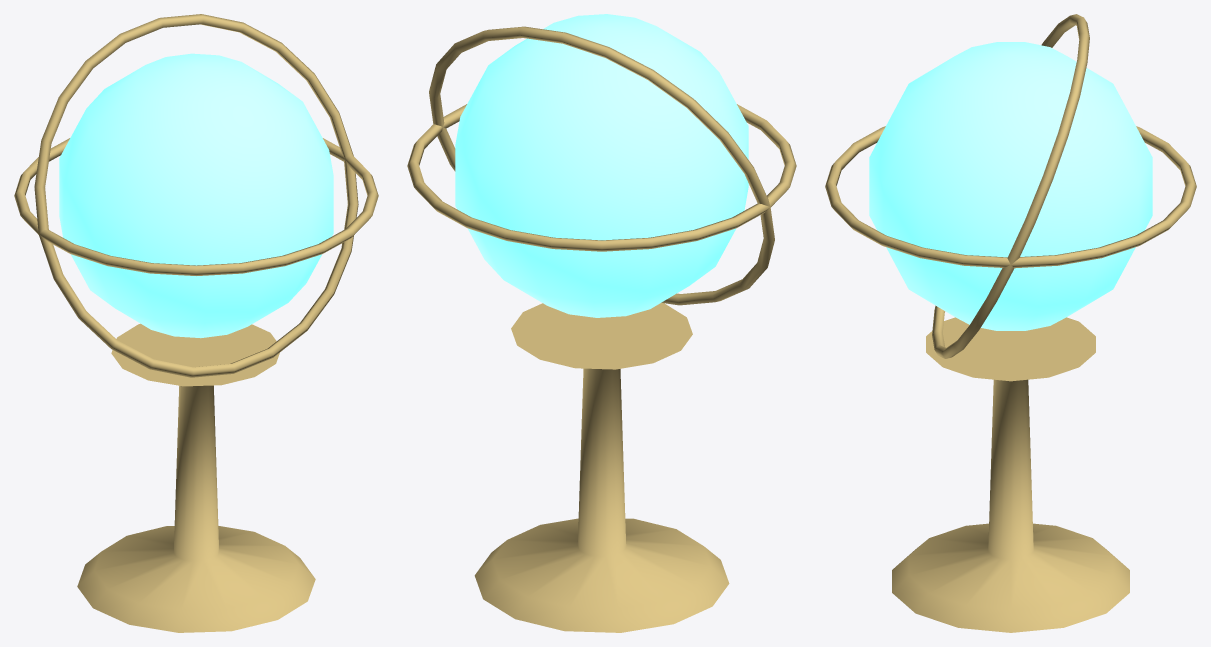
Rendered from ex_globe.glb.
3 views of the same model, side by side, from view 1: azimuth 30°, elevation 25°; view 2: azimuth 150°, elevation 25°; view 3: azimuth 270°, elevation 25° (orthographic). The views are drawn at different scales.
Visible parts, largest first — view 1: ex_globe; view 2: ex_globe; view 3: ex_globe.
Boxes of the visible parts, x1=… form: ex_globe: x1=14, y1=14, x2=378, y2=632; ex_globe: x1=407, y1=14, x2=796, y2=632; ex_globe: x1=825, y1=14, x2=1196, y2=632.
Size of the model in its own units: 1.28 by 2.08 by 1.28.
